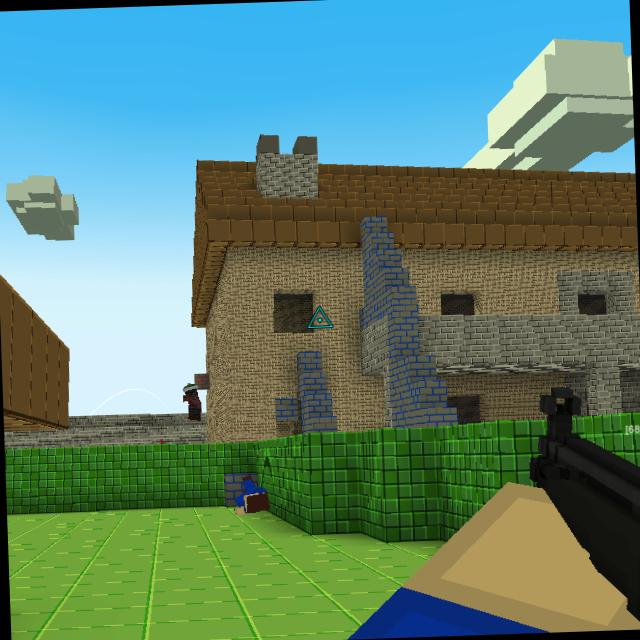enemy: (180, 381, 203, 422)
